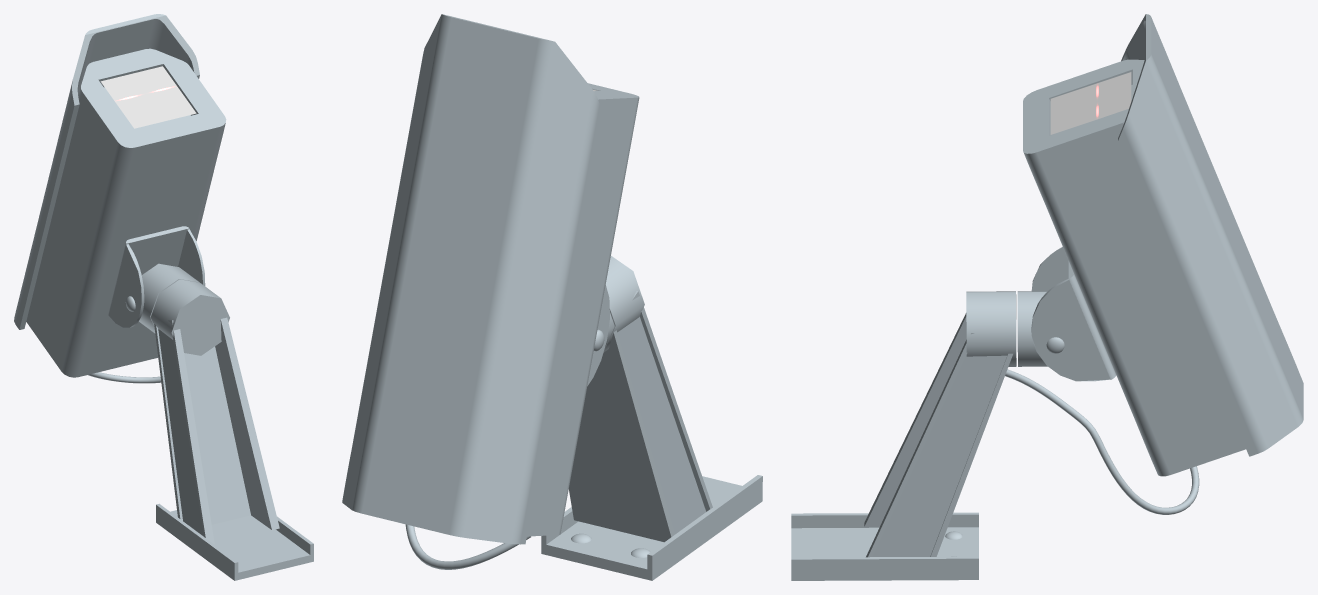
The model's file is camerawink.gltf.
3 renders of one model, left to right at view 1: azimuth 30°, elevation 25°; view 2: azimuth 150°, elevation 25°; view 3: azimuth 270°, elevation 25°, orthographic. The views are drawn at different scales.
Parts seen in each view (by area): view 1: Object_12, Object_6, Object_11, Object_7, Object_13, Object_10, Plane, Object_5, Object_4; view 2: Object_11, Object_6, Object_12, Object_7, Object_10, Object_4, Object_13; view 3: Object_12, Object_11, Object_6, Object_7, Object_13, Object_10, Plane, Object_4, Object_5.
Boxes of the visible parts, x1,y1,x2,y2 form: Object_12: [26, 48, 226, 377]; Object_6: [154, 317, 279, 544]; Object_11: [14, 14, 199, 329]; Object_7: [156, 503, 313, 580]; Object_13: [108, 226, 205, 327]; Object_10: [150, 279, 229, 355]; Plane: [100, 66, 196, 128]; Object_5: [139, 263, 199, 333]; Object_4: [88, 372, 161, 383]; Object_11: [342, 14, 602, 544]; Object_6: [569, 291, 712, 542]; Object_12: [527, 83, 639, 536]; Object_7: [541, 475, 762, 580]; Object_10: [603, 256, 644, 352]; Object_4: [405, 524, 531, 569]; Object_13: [587, 285, 609, 385]; Object_12: [1023, 59, 1245, 476]; Object_11: [1118, 14, 1303, 456]; Object_6: [864, 313, 1012, 557]; Object_7: [791, 512, 978, 580]; Object_13: [1031, 246, 1116, 381]; Object_10: [966, 291, 1016, 366]; Plane: [1050, 72, 1131, 134]; Object_4: [1005, 369, 1199, 514]; Object_5: [1017, 291, 1047, 366].
Bounding box in the file's own units: 1.26 × 3.92 × 3.48.
